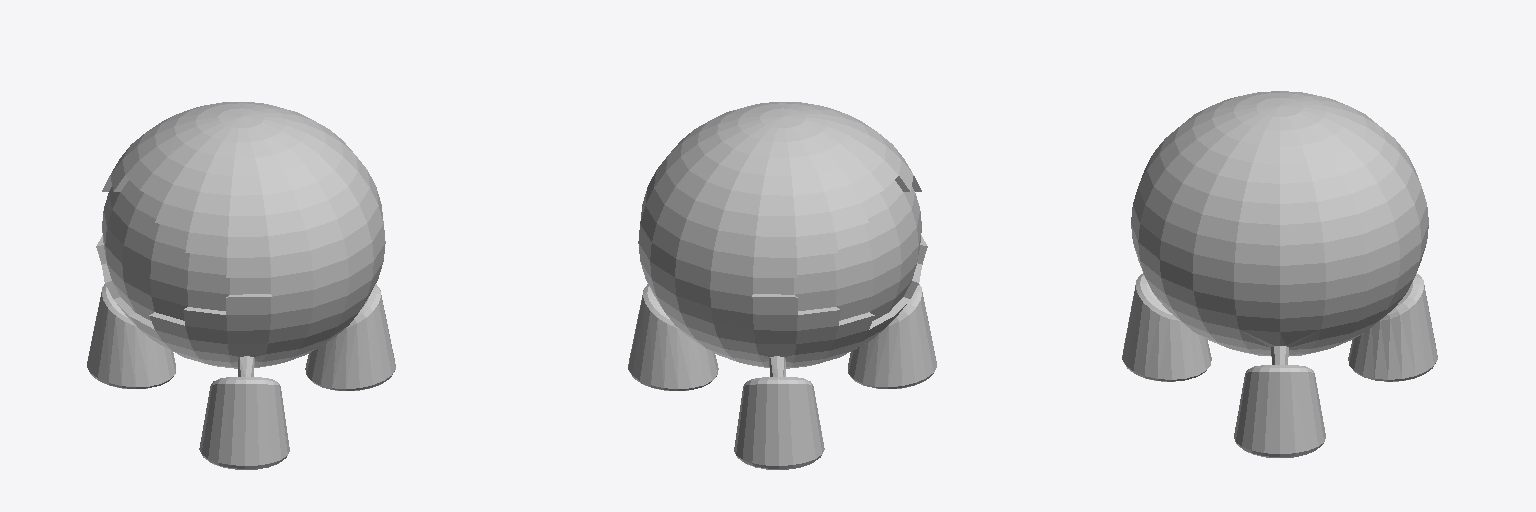
File: Escape Pod.obj
3 views of the same model, side by side, from view 1: azimuth 30°, elevation 25°; view 2: azimuth 150°, elevation 25°; view 3: azimuth 270°, elevation 25° (orthographic).
Parts seen in each view (by area): view 1: polySurface16; view 2: polySurface16; view 3: polySurface16.
Boxes of the visible parts, box(x1,y1,x2,y2) form: polySurface16: box(87, 102, 395, 469); polySurface16: box(628, 102, 936, 469); polySurface16: box(1122, 91, 1437, 457).
Size of the model in its own units: 2.91 by 2.97 by 2.98.